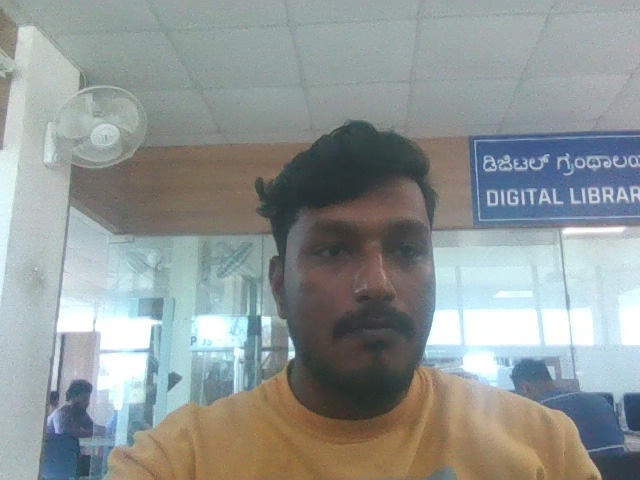real: (253, 103, 465, 403)
